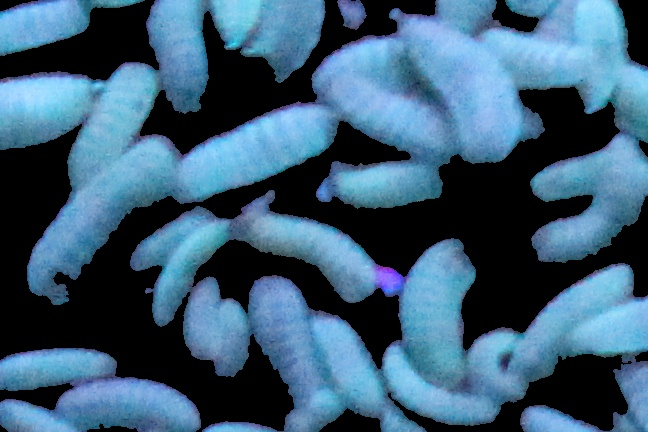larvae: (21, 139, 175, 305), (392, 15, 520, 159), (176, 103, 336, 199), (520, 267, 630, 395), (527, 161, 644, 261), (66, 65, 160, 189), (244, 209, 372, 300), (402, 239, 472, 391), (386, 341, 501, 423), (245, 279, 322, 398), (152, 217, 231, 325), (336, 80, 449, 155), (1, 70, 95, 157), (50, 380, 207, 430), (480, 26, 593, 89), (314, 311, 383, 414), (146, 1, 210, 112), (533, 134, 637, 202), (571, 1, 632, 114), (570, 297, 648, 372), (322, 162, 445, 209), (307, 35, 412, 83), (461, 321, 525, 399), (1, 346, 121, 386), (131, 209, 211, 268), (1, 1, 87, 52), (186, 277, 221, 360), (281, 389, 347, 430), (214, 302, 248, 375), (209, 1, 260, 46)
